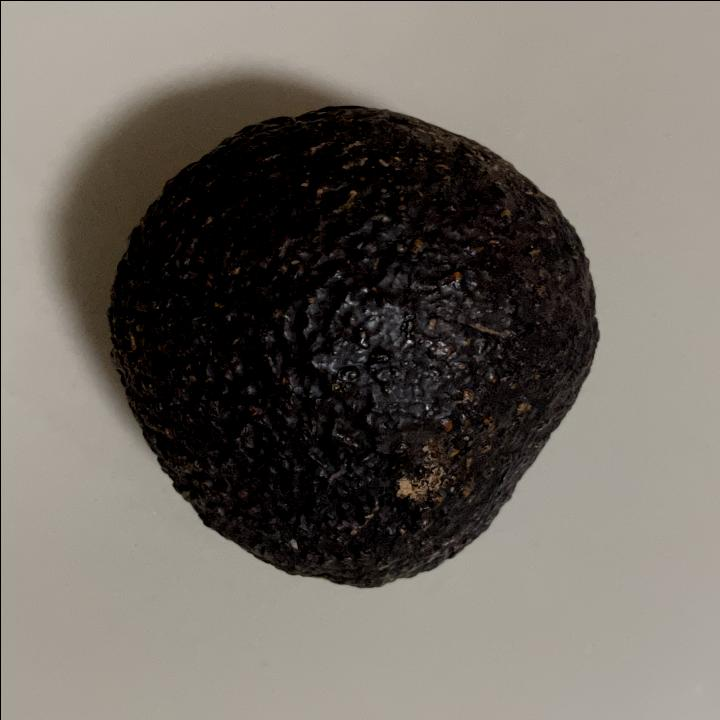Level3: (97, 97, 608, 600)
